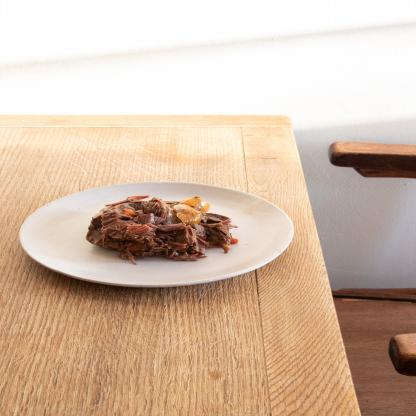Carne: (89, 209, 142, 252), (146, 226, 205, 254)
